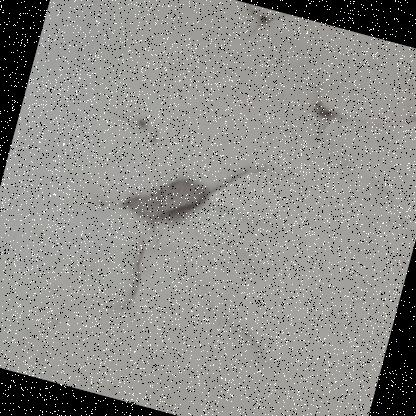Crack: (51, 100, 335, 402), (272, 57, 406, 172), (198, 0, 295, 73)
